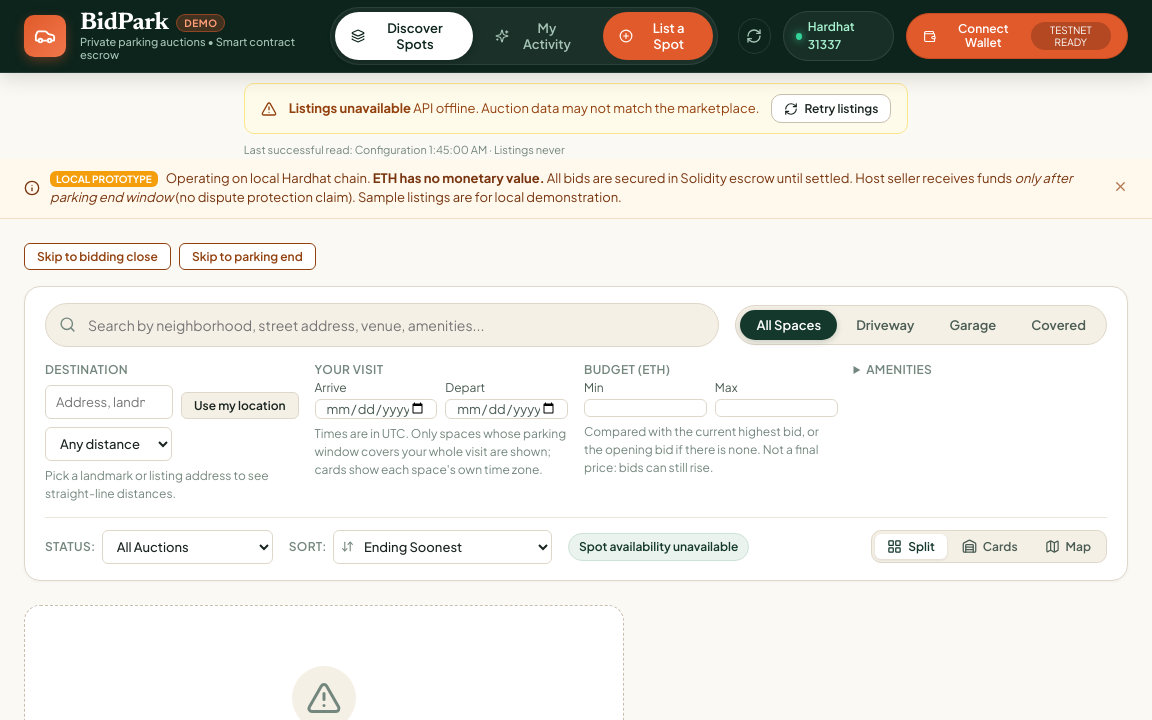
Scenario: listings read status › API down on first load is unavailable, not an empty marketplace, and retry recovers
Click the button "Retry listings": (831, 108) [772,94,891,123]
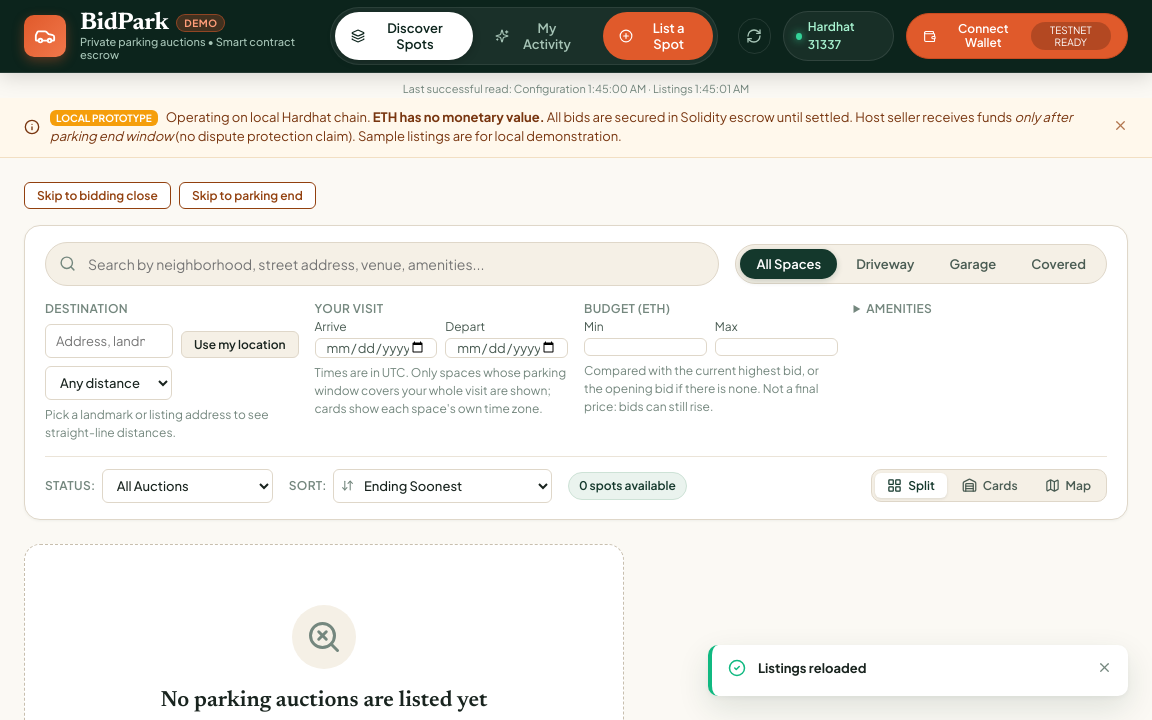
Expected: the text "No parking auctions are listed yet" is shown, [161,684,487,718]
Expected: the text "0 spots available" is shown, [579,478,676,492]
Expected: the text "Listings unavailable" is gone
